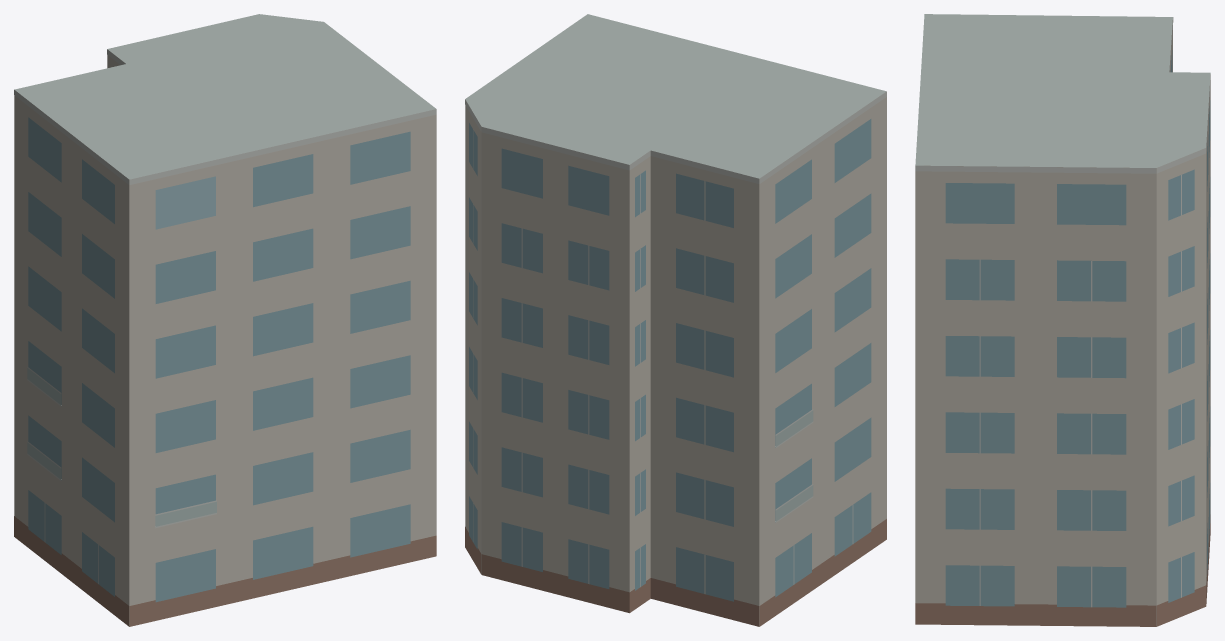
Rendered from survey-upis-32879457.glb.
3 views of the same model, side by side, from view 1: azimuth 30°, elevation 25°; view 2: azimuth 150°, elevation 25°; view 3: azimuth 270°, elevation 25° (orthographic). The views are drawn at different scales.
Parts seen in each view (by area): view 1: survey-upis-32879457.tmp; view 2: survey-upis-32879457.tmp; view 3: survey-upis-32879457.tmp.
Part boxes in pixels (x1=…): survey-upis-32879457.tmp: x1=14, y1=14, x2=436, y2=626; survey-upis-32879457.tmp: x1=465, y1=14, x2=886, y2=626; survey-upis-32879457.tmp: x1=915, y1=14, x2=1210, y2=626.
Bounding box in the file's own units: 14.19 × 19.7 × 11.5.
